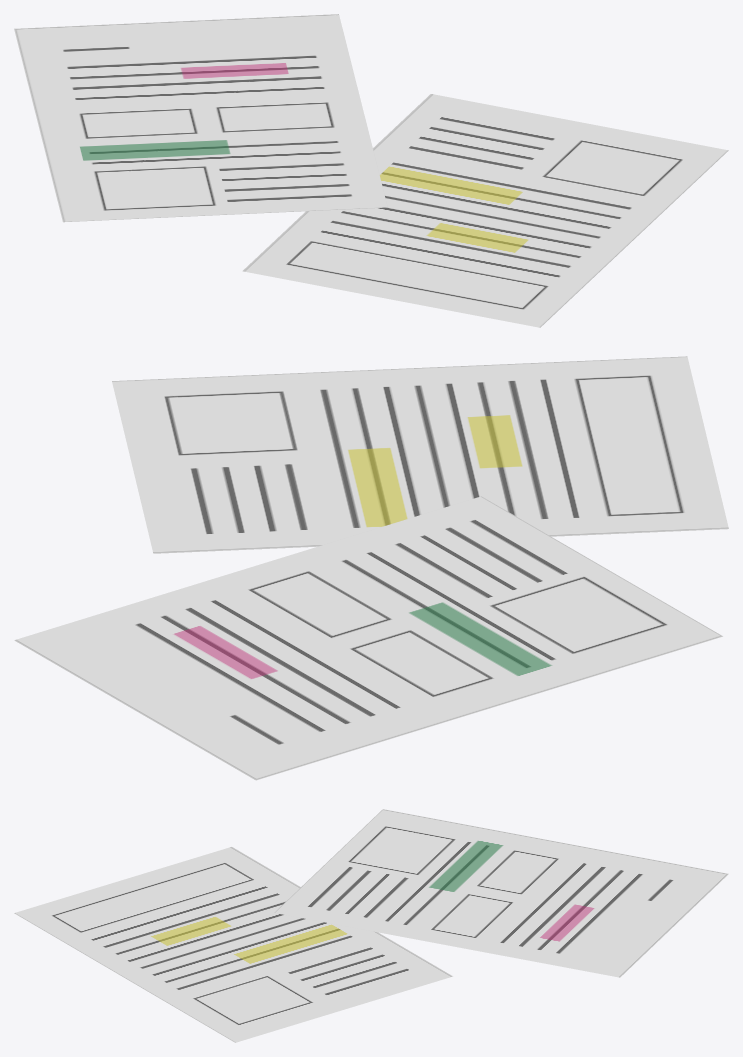
File: papier.glb
The picture shows the model from 3 angles, top to bottom: view 1: azimuth 30°, elevation 25°; view 2: azimuth 150°, elevation 25°; view 3: azimuth 270°, elevation 25°; orthographic projection. The views are drawn at different scales.
Parts seen in each view (by area): view 1: paper.002; view 2: paper.002; view 3: paper.002.
Part boxes in pixels (x1,y1,x2,y2): paper.002: (14, 14, 728, 327); paper.002: (14, 356, 728, 780); paper.002: (14, 809, 728, 1042).
Bounding box in the file's own units: 1.04 × 0.00536 × 1.36.
Materials: 2 (2 with a texture image).
